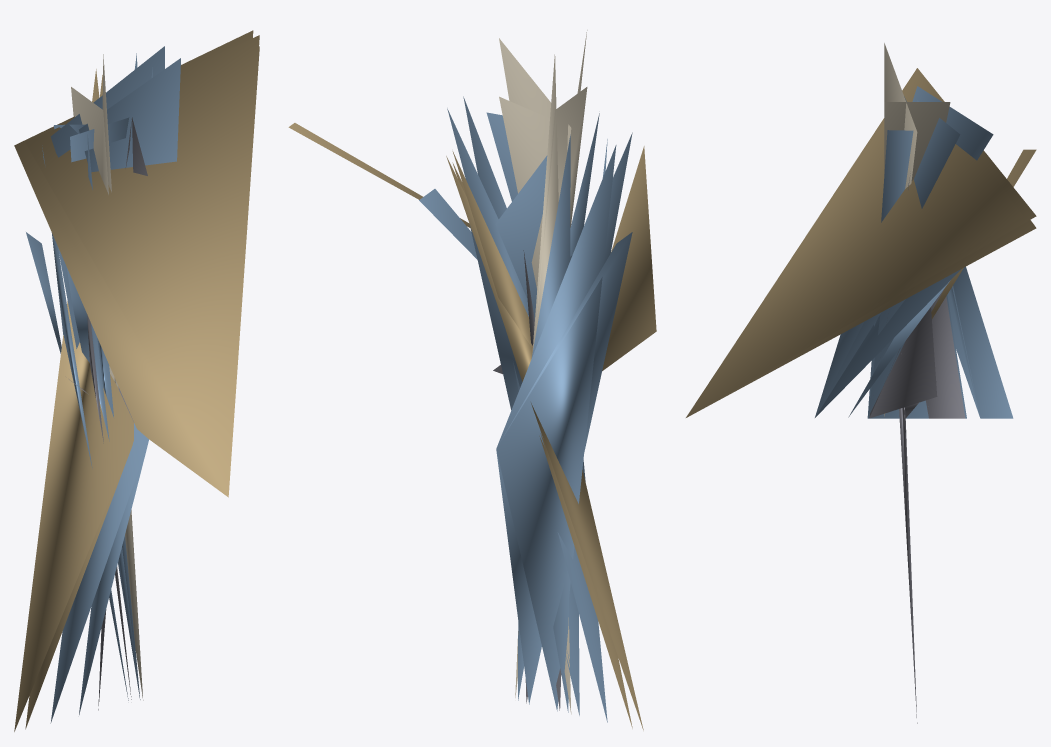
The model's file is player_spear.glb.
3 renders of one model, left to right at view 1: azimuth 30°, elevation 25°; view 2: azimuth 150°, elevation 25°; view 3: azimuth 270°, elevation 25°, orthographic. The views are drawn at different scales.
Parts seen in each view (by area): view 1: player_spear; view 2: player_spear; view 3: player_spear.
Part boxes in pixels (x1,y1,x2,y2): player_spear: (14, 30, 259, 731); player_spear: (288, 30, 656, 730); player_spear: (686, 43, 1036, 723).
Bounding box in the file's own units: 1.06 × 2.3 × 1.06.
